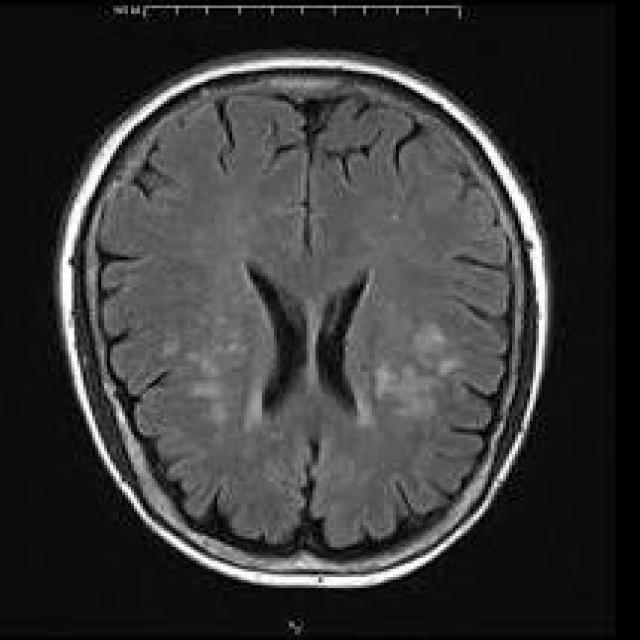notumor: (57, 52, 548, 585)
